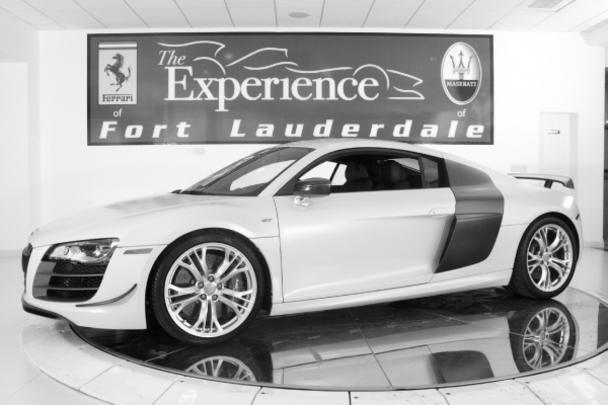car: (16, 139, 590, 350)
